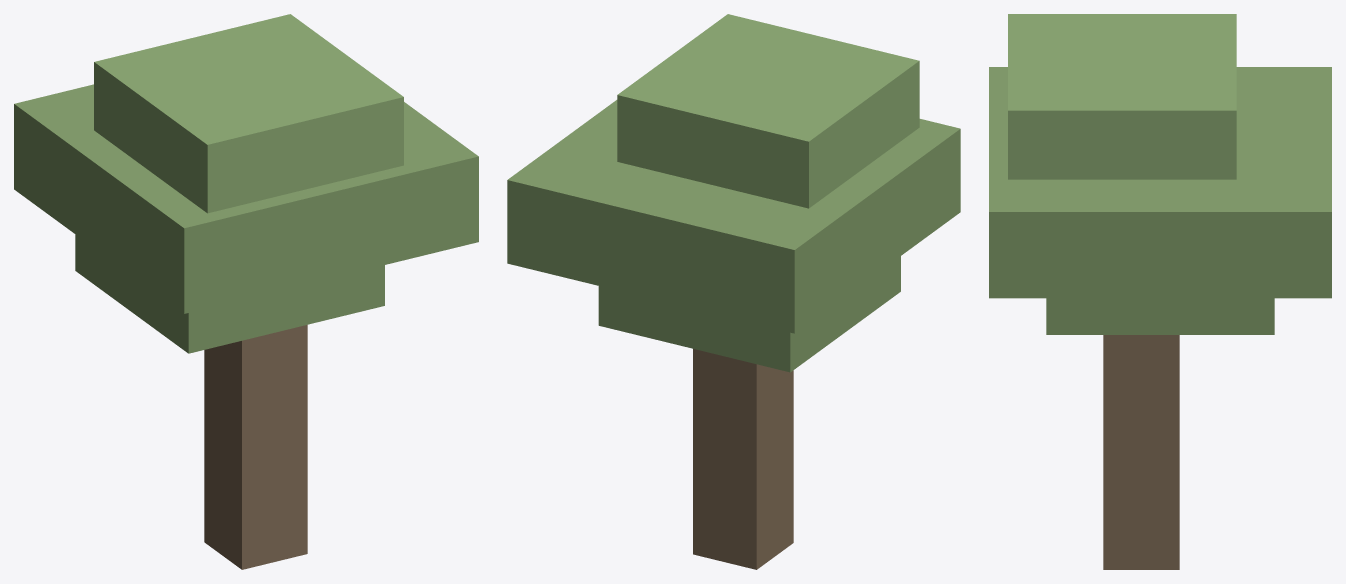
Rendered from chopo_04.glb.
3 views of the same model, side by side, from view 1: azimuth 30°, elevation 25°; view 2: azimuth 150°, elevation 25°; view 3: azimuth 270°, elevation 25° (orthographic). The views are drawn at different scales.
Parts seen in each view (by area): view 1: chopo_04; view 2: chopo_04; view 3: chopo_04.
Boxes of the visible parts, <box> form: chopo_04: <box>14,14,478,569</box>; chopo_04: <box>507,14,960,569</box>; chopo_04: <box>989,14,1331,569</box>.
Bounding box in the file's own units: 1.8 × 2.8 × 1.8.
